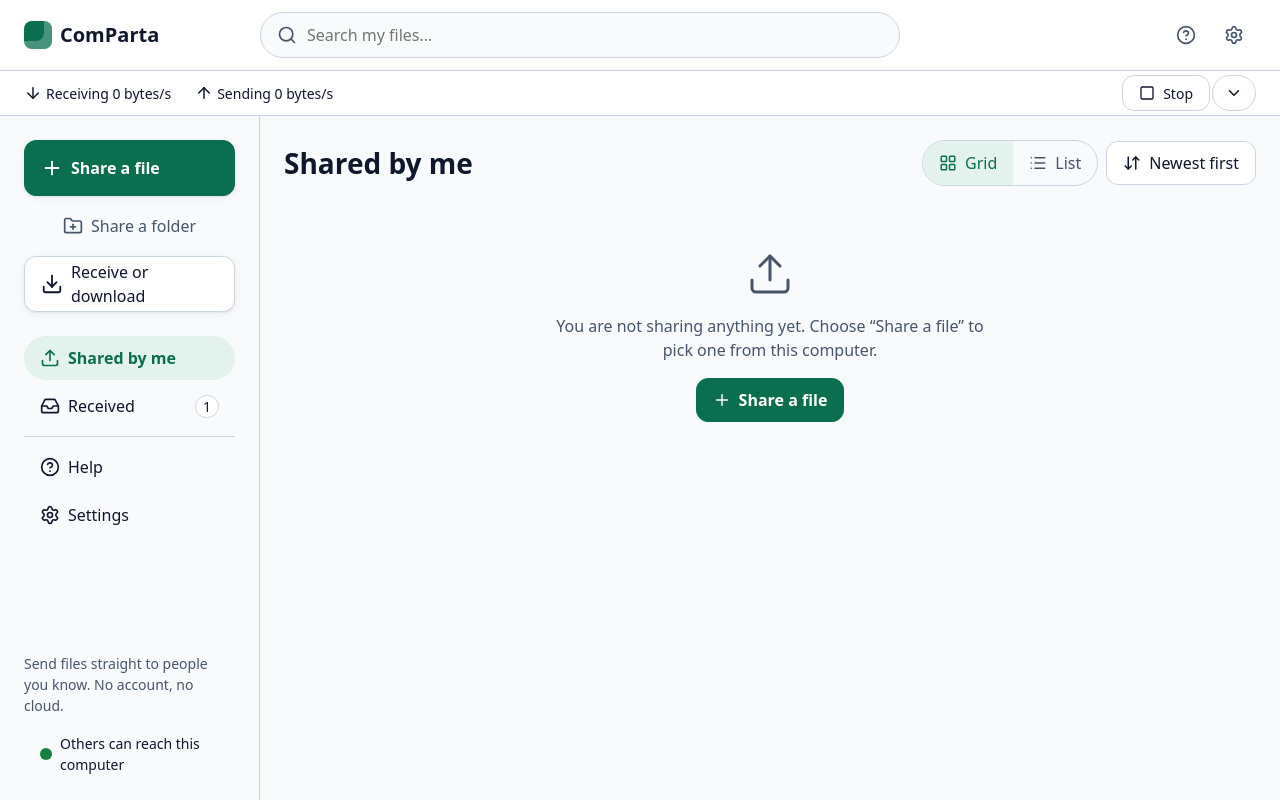
Test: a received file the antivirus stopped › says so on its card, offers nothing to open, and can be cleared
Click the button "Received 1".
click(130, 406)  # box [24,384,235,428]
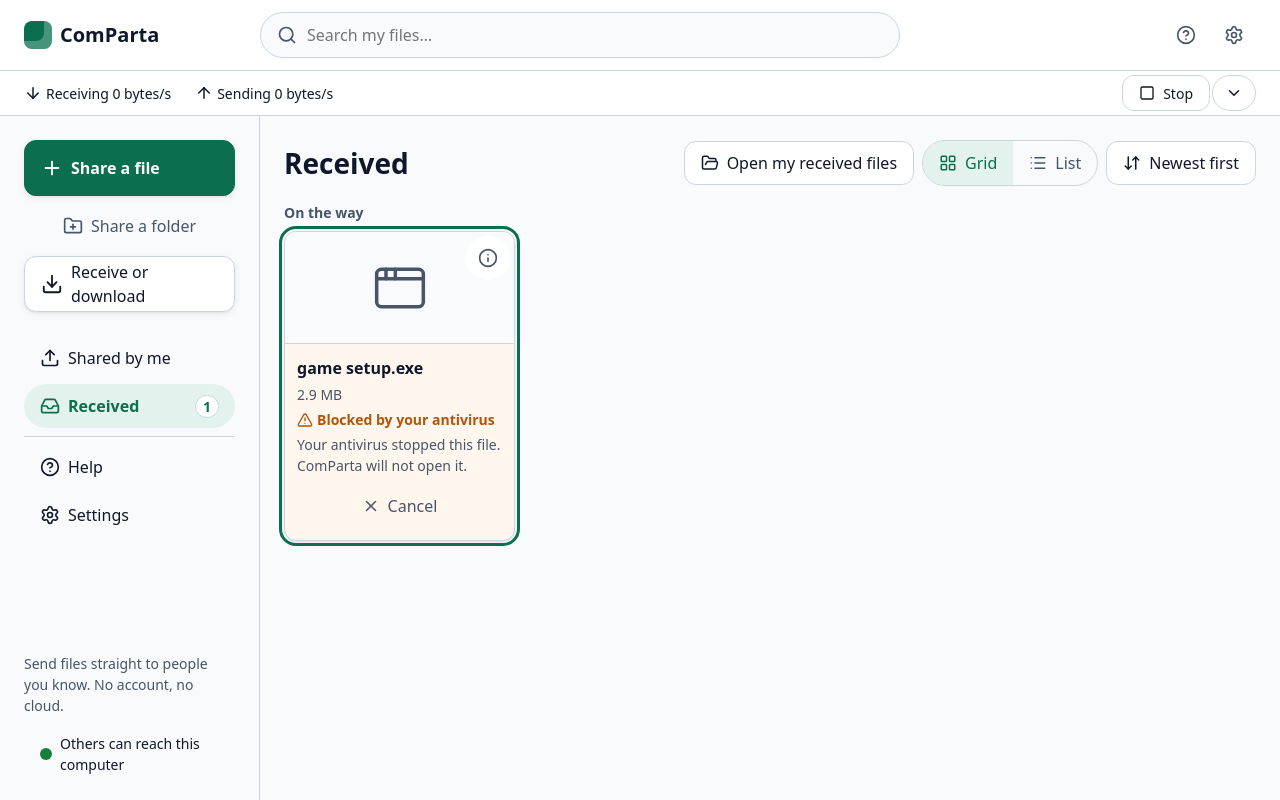
Now the text "Blocked by your antivirus" is shown, box [297,409,495,430]
Now the text "Your antivirus stopped this file. ComParta will not open it." is shown, box [297,434,502,476]
Press Delete
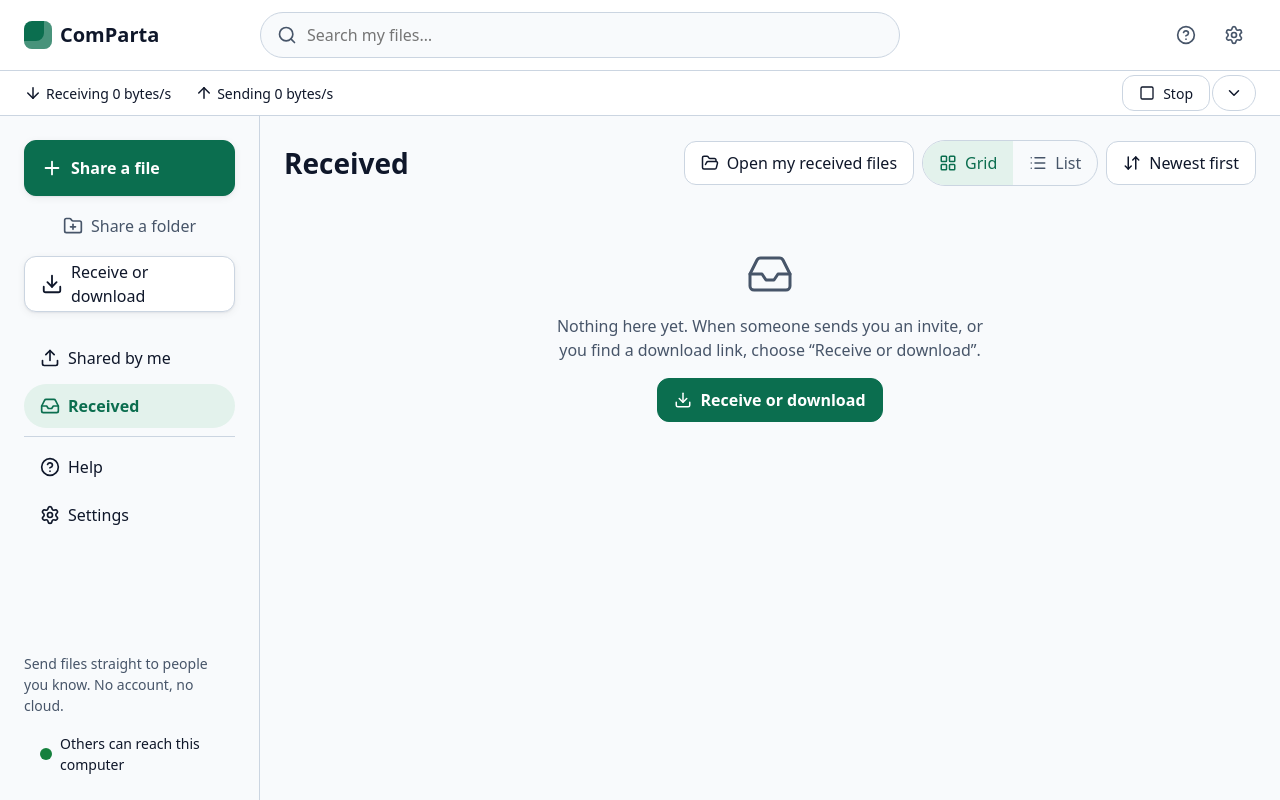
Now the text "Nothing here yet. When someone sends you an invite, or you find a download link, choose “Receive or download”." is shown, box [557,315,983,361]
